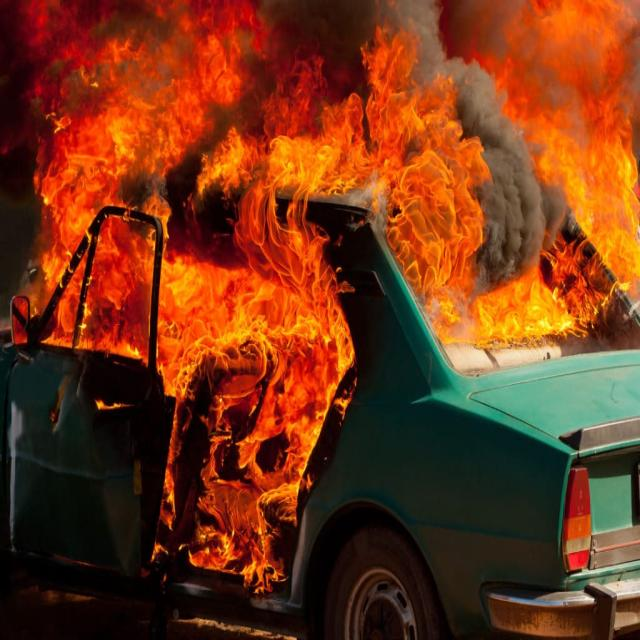fire: (85, 55, 608, 364), (174, 378, 327, 583)
